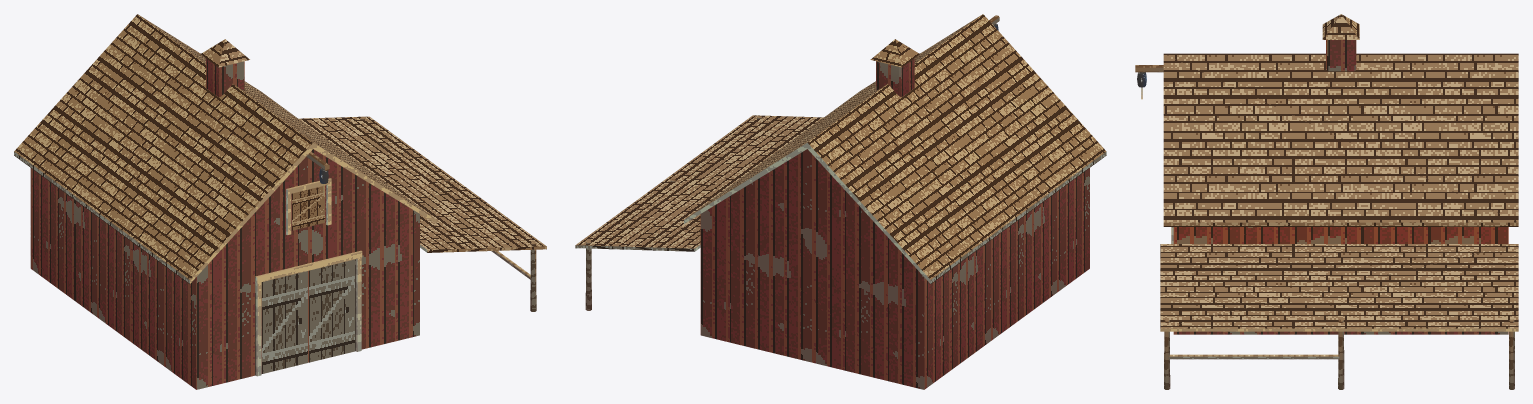
Rendered from wtown.stable__wide.glb.
3 renders of one model, left to right at view 1: azimuth 30°, elevation 25°; view 2: azimuth 150°, elevation 25°; view 3: azimuth 270°, elevation 25°, orthographic.
Visible parts, largest first — view 1: kit_roof, kit_body, kit_lean_to, kit_card_panes, kit_trim, kit_cupola, kit_cupola_cap; view 2: kit_body, kit_roof, kit_lean_to, kit_cupola, kit_cupola_cap; view 3: kit_roof, kit_lean_to, kit_body, kit_lean_rail, kit_cupola, kit_cupola_cap, kit_hoist.
Boxes of the visible parts, x1,y1,x2,y2 form: kit_roof: (14,14,436,283); kit_body: (30,149,419,389); kit_lean_to: (299,116,546,311); kit_card_panes: (262,186,354,373); kit_trim: (255,178,362,376); kit_cupola: (206,58,244,97); kit_cupola_cap: (200,39,249,67); kit_body: (700,149,1089,389); kit_roof: (684,14,1106,283); kit_lean_to: (575,115,823,310); kit_cupola: (876,58,914,97); kit_cupola_cap: (870,39,919,67); kit_roof: (1163,53,1518,226); kit_lean_to: (1160,244,1518,389); kit_body: (1173,227,1508,334); kit_lean_rail: (1169,354,1339,359); kit_cupola: (1326,40,1356,71); kit_cupola_cap: (1322,14,1359,39); kit_hoist: (1135,65,1163,87).
Size of the model in its own units: 12.37 by 8.75 by 11.45.
9 materials, 9 textured.
